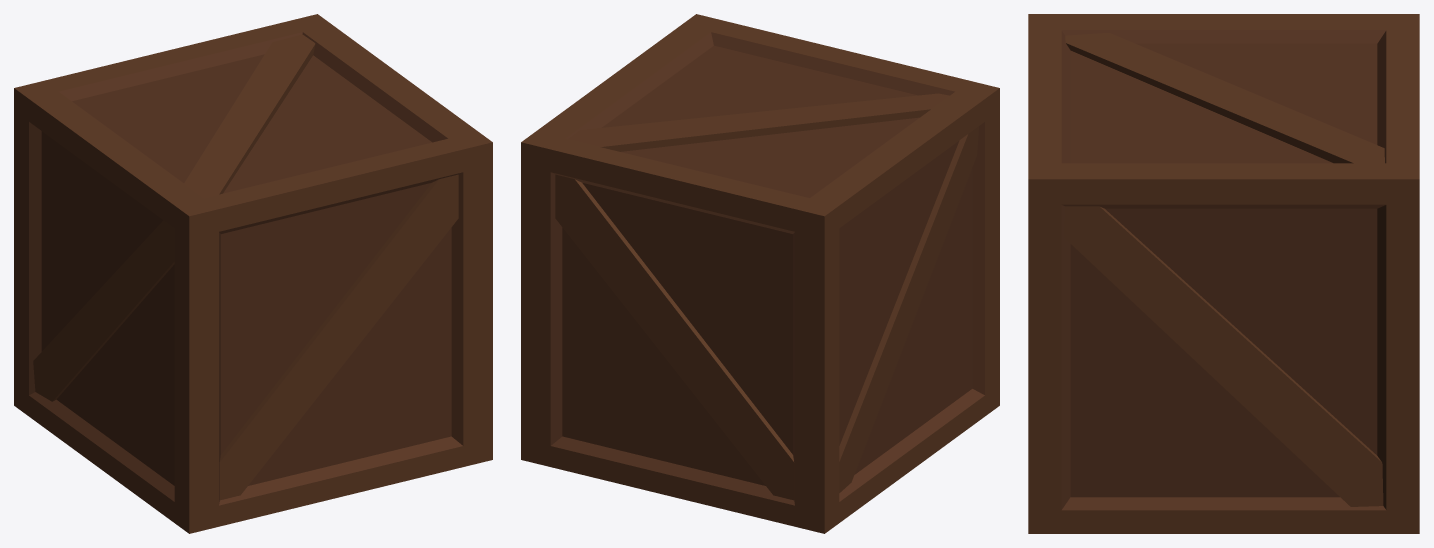
The model's file is crate.glb.
3 renders of one model, left to right at view 1: azimuth 30°, elevation 25°; view 2: azimuth 150°, elevation 25°; view 3: azimuth 270°, elevation 25°, orthographic. The views are drawn at different scales.
Visible parts, largest first — view 1: Crate; view 2: Crate; view 3: Crate.
Boxes of the visible parts, x1,y1,x2,y2 form: Crate: (14, 14, 492, 533); Crate: (521, 14, 999, 533); Crate: (1028, 14, 1419, 533).
Bounding box in the file's own units: 1.06 × 1.06 × 1.06.
